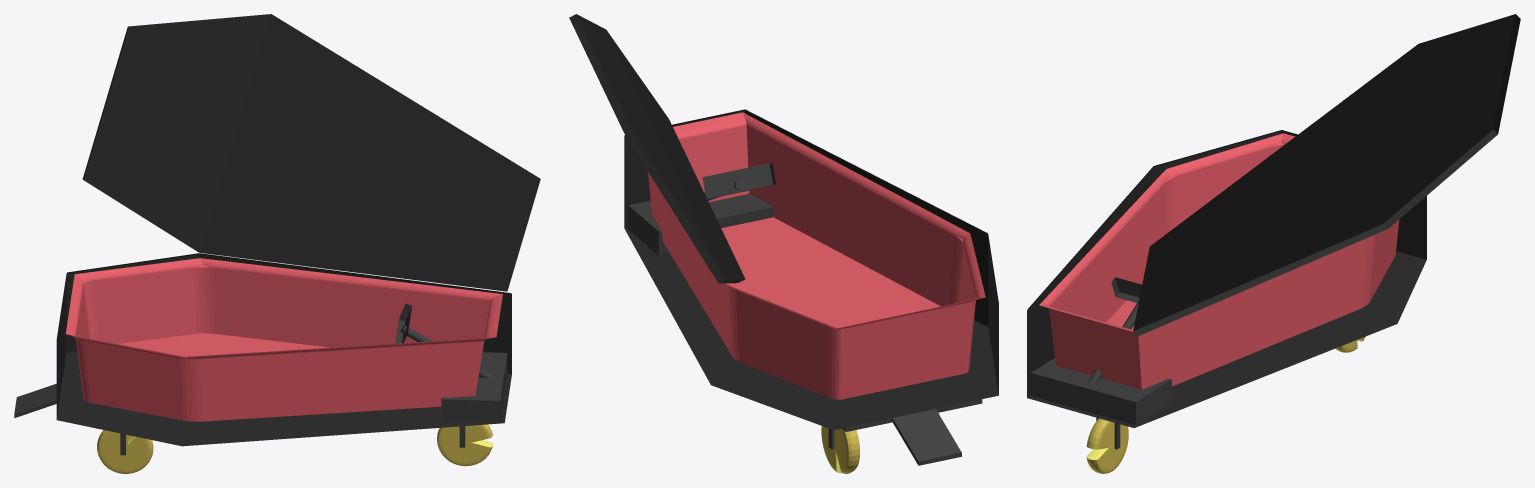
The model's file is coffincheese.gltf.
The picture shows the model from 3 angles, left to right: view 1: azimuth 30°, elevation 25°; view 2: azimuth 150°, elevation 25°; view 3: azimuth 270°, elevation 25°; orthographic projection. The views are drawn at different scales.
Parts seen in each view (by area): view 1: Cylinder.028; view 2: Cylinder.028; view 3: Cylinder.028.
Boxes of the visible parts, left/top/right/bottom form: Cylinder.028: left=14, top=14, right=540, bottom=473; Cylinder.028: left=569, top=14, right=998, bottom=473; Cylinder.028: left=1027, top=14, right=1520, bottom=473.
Size of the model in its own units: 10.93 by 8.73 by 9.81.
